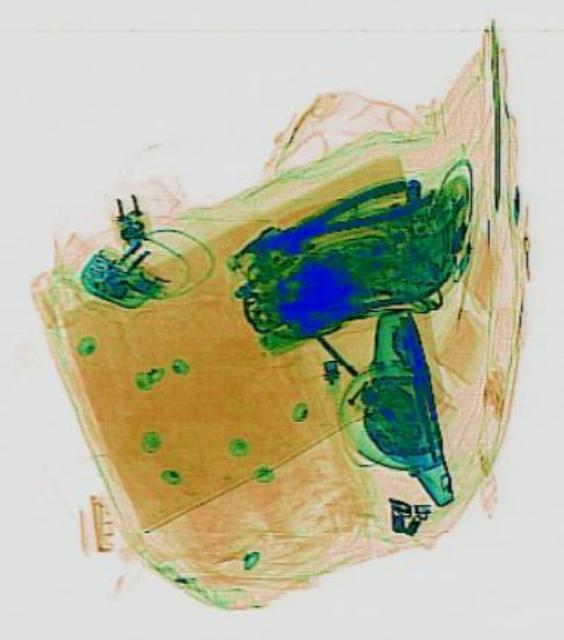Pliers: (244, 172, 424, 266)
